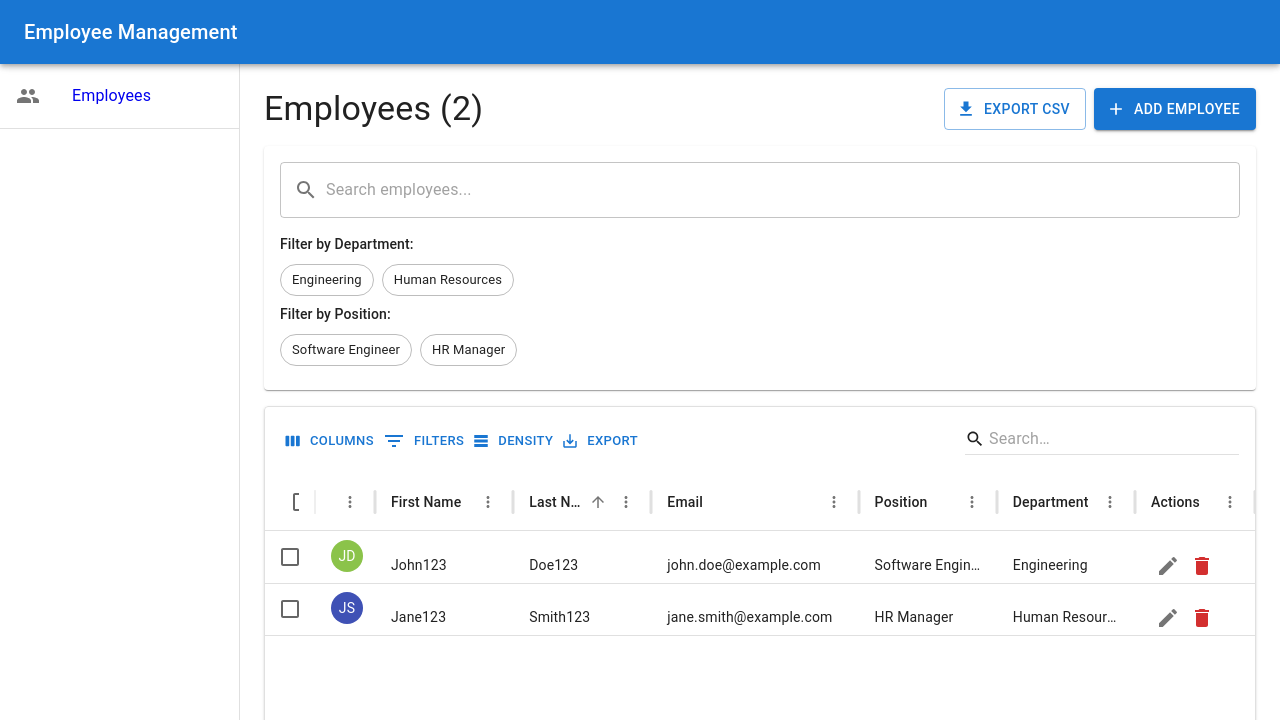
Test case: Employee List › should close delete confirmation dialog when cancel is clicked
# Open the delete dialog
Click the button with test id "delete-employee-0": point(1202, 566) [1185,549,1219,583]
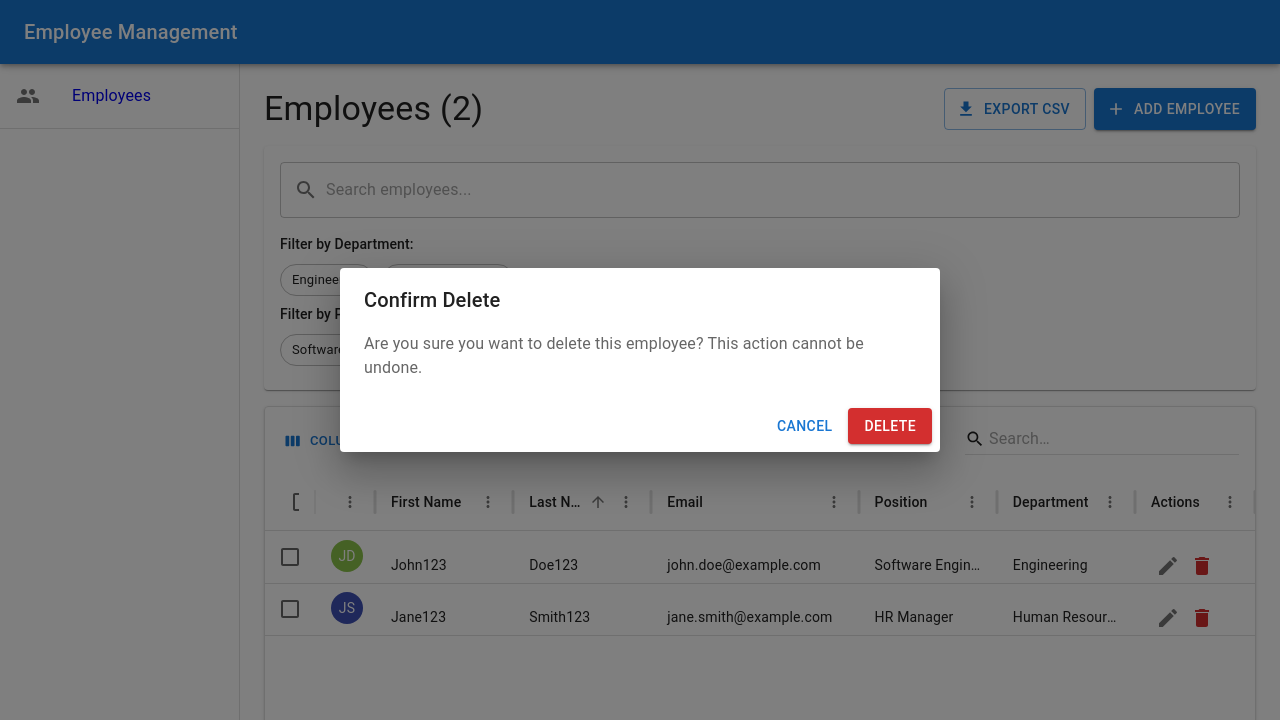
# Click cancel
Click the button "Cancel": point(805, 427) [769,408,841,445]
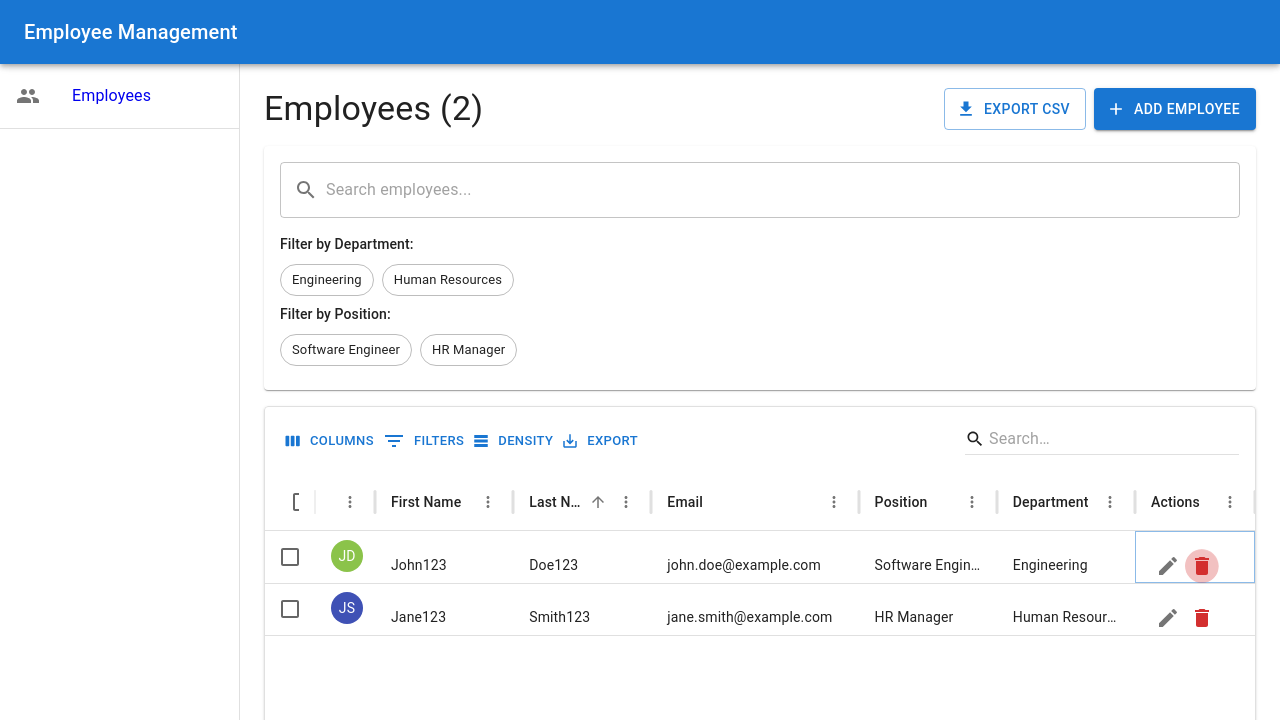
expect the heading "Confirm Delete" is gone: met
